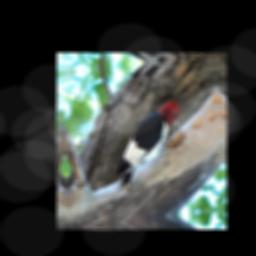Woodpecker: (108, 101, 187, 194)
